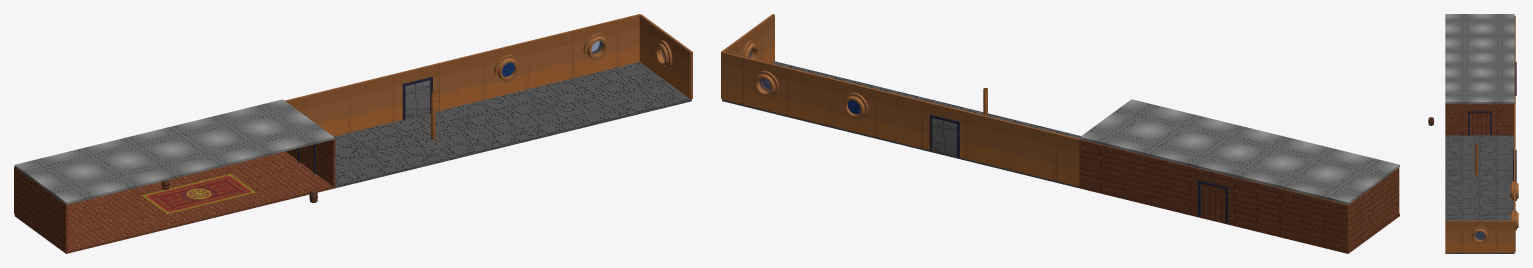
Rendered from environmentPack.fbx.
3 renders of one model, left to right at view 1: azimuth 30°, elevation 25°; view 2: azimuth 150°, elevation 25°; view 3: azimuth 270°, elevation 25°, orthographic. The views are drawn at different scales.
Visible parts, largest first — view 1: wood_floor.009, wood_floor.007, wood_floor.008, wood_floor.003, wood_floor.004, wood_floor.002, copper_wall_window_boolean, wood_floor, copper_wall_window, copper_doorway, wood_floor.001, wood_floor.006 (+8 smaller); view 2: wooden_corner, wood_floor.009, wood_floor.008, wood_floor.007, copper_wall, copper_wall_window_boolean, wood_wall, copper_wall_window, copper_doorway, wooden_doorframe, copper_wall_window_boolean.001, door 2 (+5 smaller); view 3: copper_wall_window_boolean.001, wood_floor.007, wood_floor.008, wood_floor.009, wood_floor.001, wood_floor.002, wood_floor.003, wooden_doorframe.001, door 2.001, copper_wall_window_boolean, wood_floor.004, copper_doorway (+3 smaller).
Boxes of the visible parts, <box> form: wood_floor.009: <box>14,143,155,204</box>; wood_floor.007: <box>193,99,334,160</box>; wood_floor.008: <box>104,121,244,182</box>; wood_floor.003: <box>462,83,602,144</box>; wood_floor.004: <box>552,62,691,122</box>; wood_floor.002: <box>373,105,512,166</box>; copper_wall_window_boolean: <box>550,14,639,83</box>; wood_floor: <box>197,151,334,210</box>; copper_wall_window: <box>461,36,551,104</box>; copper_doorway: <box>372,57,462,126</box>; wood_floor.001: <box>334,127,423,188</box>; wood_floor.006: <box>14,195,155,253</box>; wooden_corner: <box>1258,168,1399,251</box>; wood_floor.009: <box>1259,143,1399,204</box>; wood_floor.008: <box>1169,121,1309,182</box>; wood_floor.007: <box>1080,99,1220,160</box>; copper_wall: <box>990,117,1079,186</box>; copper_wall_window_boolean: <box>721,52,811,120</box>; wood_wall: <box>1079,139,1168,208</box>; copper_wall_window: <box>811,73,901,142</box>; copper_doorway: <box>900,95,990,164</box>; wooden_doorframe: <box>1168,161,1258,229</box>; copper_wall_window_boolean.001: <box>721,14,774,98</box>; door 2: <box>1201,183,1225,221</box>; copper_wall_window_boolean.001: <box>1445,220,1514,252</box>; wood_floor.007: <box>1445,72,1514,103</box>; wood_floor.008: <box>1445,43,1514,72</box>; wood_floor.009: <box>1445,14,1514,43</box>; wood_floor.001: <box>1445,135,1513,164</box>; wood_floor.002: <box>1445,164,1512,193</box>; wood_floor.003: <box>1445,193,1513,220</box>; wooden_doorframe.001: <box>1445,103,1513,135</box>; door 2.001: <box>1470,113,1489,135</box>; copper_wall_window_boolean: <box>1510,191,1518,252</box>; wood_floor.004: <box>1445,232,1514,253</box>; copper_doorway: <box>1513,133,1516,181</box>.
Bounding box in the file's own units: 5646 × 440 × 1042.
11 materials, 11 textured.
